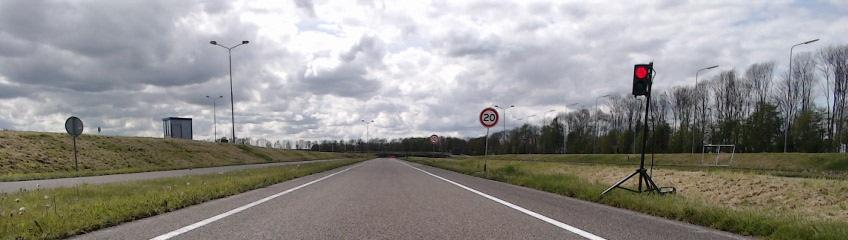Speed-limit-10km-h-: (429, 135, 438, 144)
Speed-limit-20km-h-: (480, 108, 498, 127)
TrafficLight-red: (633, 64, 651, 96)
